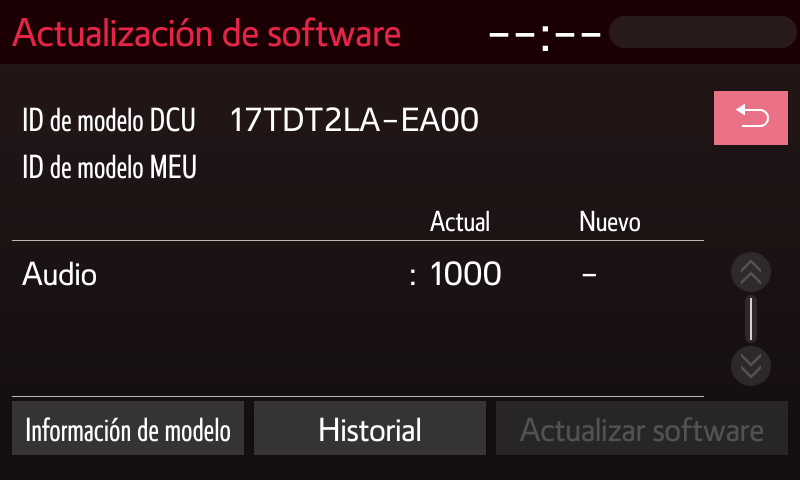touchPart: (250, 398, 491, 456), (11, 398, 247, 457), (711, 86, 789, 150)
untouchPart: (492, 396, 791, 460), (10, 8, 413, 54), (478, 10, 795, 49), (724, 251, 777, 289), (727, 346, 774, 385)
